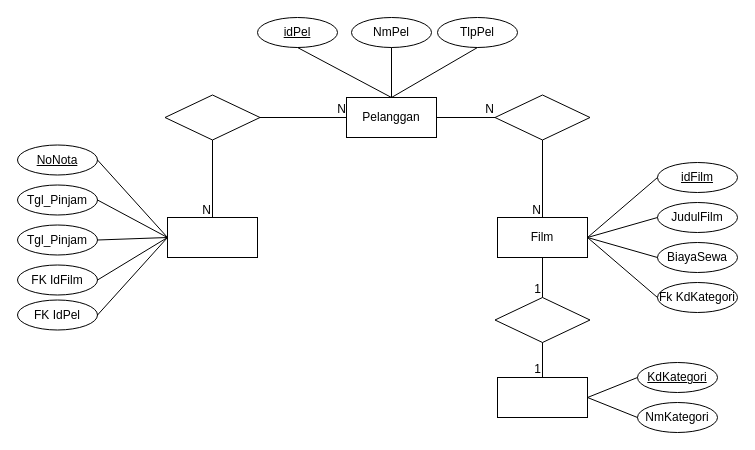
This 755x450 diagram has some shape labels left out. Each missing label, with the centre of its shape:
"Berkategori" belongs at pixel 542 319.
"Kategori" belongs at pixel 542 397.
"Meminjam" belongs at pixel 542 117.
"Mendapat" belongs at pixel 212 117.
"Nota" belongs at pixel 212 237.
